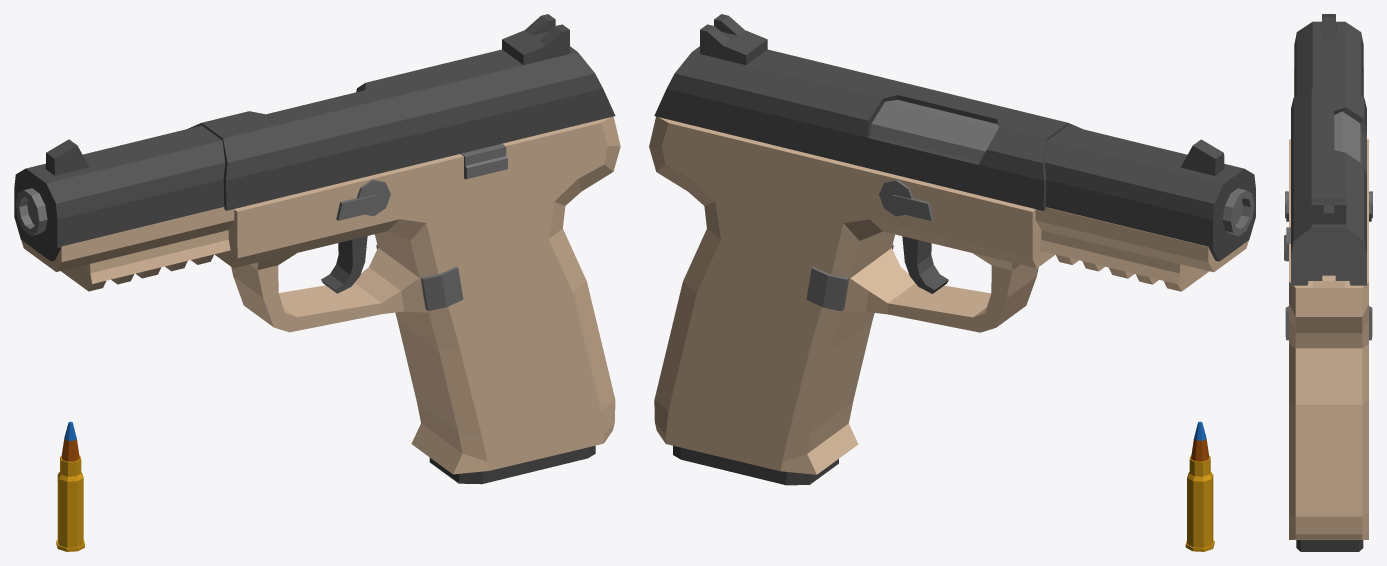
File: FiveSeven.fbx
3 renders of one model, left to right at view 1: azimuth 30°, elevation 25°; view 2: azimuth 150°, elevation 25°; view 3: azimuth 270°, elevation 25°, orthographic. The views are drawn at different scales.
Visible parts, largest first — view 1: FiveSeven, Bullet, Mag; view 2: FiveSeven, Bullet, Mag; view 3: FiveSeven, Mag.
Part boxes in pixels (x1,y1,x2,y2): FiveSeven: [14, 14, 620, 474]; Bullet: [56, 421, 84, 551]; Mag: [429, 445, 595, 484]; FiveSeven: [649, 14, 1255, 474]; Bullet: [1185, 421, 1214, 551]; Mag: [673, 446, 838, 485]; FiveSeven: [1284, 14, 1372, 539]; Mag: [1296, 540, 1363, 551].
Bounding box in the file's own units: 706 × 499 × 118.
Materials: 2 (2 with a texture image).
